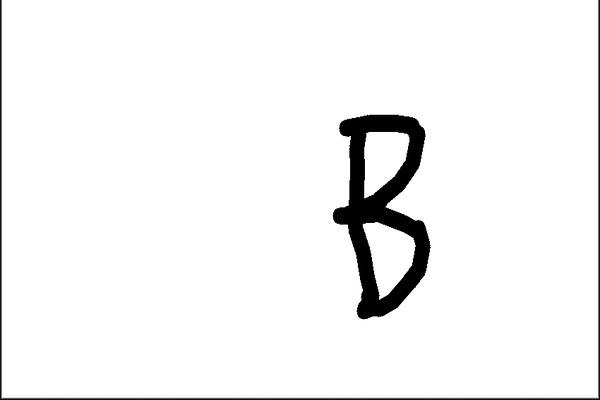B: (320, 107, 433, 320)
